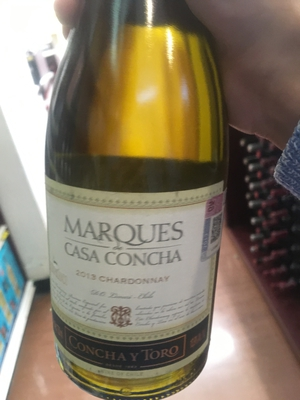marques de casa concha chardonnay: (39, 4, 224, 400)
